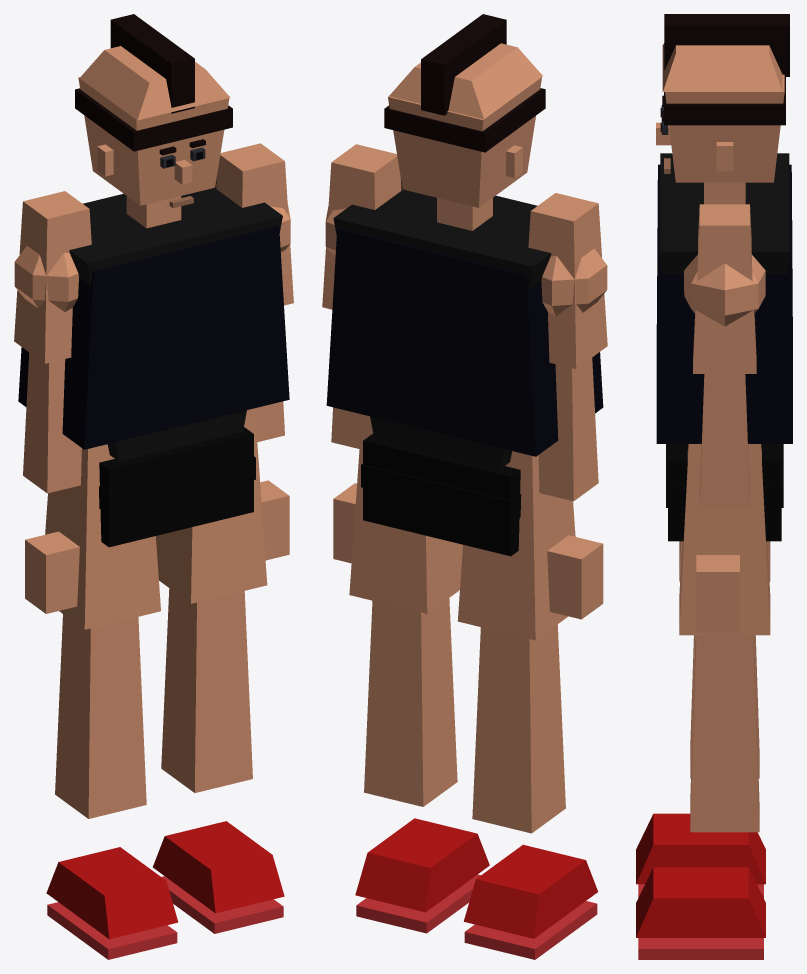
The model's file is npc_male_ps1.glb.
3 renders of one model, left to right at view 1: azimuth 30°, elevation 25°; view 2: azimuth 150°, elevation 25°; view 3: azimuth 270°, elevation 25°, orthographic. The views are drawn at different scales.
Visible parts, largest first — view 1: torso, head, lowerLegR, lowerLegL, hips, footR, footL, upperLegR, upperArmR, foreArmR, upperLegL, upperArmL (+1 smaller); view 2: torso, head, lowerLegR, lowerLegL, hips, upperLegR, footR, footL, upperArmR, foreArmR, upperLegL, upperArmL (+1 smaller); view 3: torso, head, lowerLegL, footL, upperArmL, foreArmL, upperLegL, footR, hips, lowerLegR.
Boxes of the visible parts, bbox=[...] form: torso: bbox=[18, 177, 289, 461]; head: bbox=[75, 14, 232, 207]; lowerLegR: bbox=[55, 614, 146, 818]; lowerLegL: bbox=[161, 588, 252, 792]; hips: bbox=[99, 427, 255, 547]; footR: bbox=[46, 847, 178, 959]; footL: bbox=[153, 821, 284, 933]; upperLegR: bbox=[45, 444, 160, 629]; upperArmR: bbox=[14, 191, 91, 363]; foreArmR: bbox=[23, 353, 81, 613]; upperLegL: bbox=[156, 408, 267, 603]; upperArmL: bbox=[216, 143, 293, 305]; torso: bbox=[326, 178, 603, 468]; head: bbox=[384, 14, 545, 207]; lowerLegR: bbox=[472, 624, 565, 833]; lowerLegL: bbox=[364, 598, 457, 806]; hips: bbox=[361, 434, 521, 556]; upperLegR: bbox=[457, 451, 575, 640]; footR: bbox=[463, 844, 597, 959]; footL: bbox=[355, 818, 489, 933]; upperArmR: bbox=[528, 193, 607, 368]; foreArmR: bbox=[538, 358, 603, 619]; upperLegL: bbox=[349, 414, 462, 613]; upperArmL: bbox=[322, 144, 401, 309]; torso: bbox=[656, 153, 792, 450]; head: bbox=[656, 14, 789, 182]; lowerLegL: bbox=[690, 635, 759, 832]; footL: bbox=[636, 867, 765, 959]; upperArmL: bbox=[684, 204, 765, 373]; foreArmL: bbox=[696, 374, 749, 632]; upperLegL: bbox=[679, 444, 770, 635]; footR: bbox=[636, 813, 765, 898]; hips: bbox=[666, 444, 783, 541]; lowerLegR: bbox=[690, 635, 759, 778].
Bounding box in the file's own units: 0.5686 × 1.78 × 0.2834.
